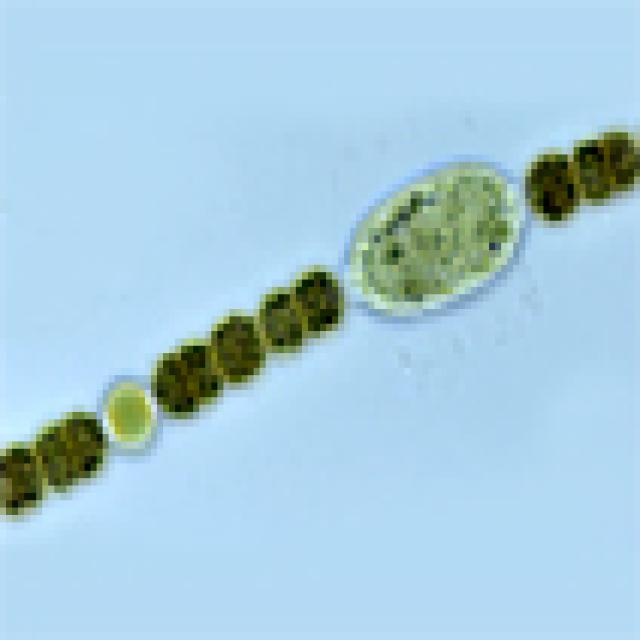Blue Green Algae: (561, 132, 622, 206), (525, 147, 580, 221), (205, 309, 266, 375), (296, 265, 350, 331), (254, 287, 308, 353), (60, 404, 109, 470), (6, 434, 42, 522), (181, 346, 230, 404), (151, 346, 193, 412), (36, 420, 72, 486), (604, 125, 640, 184)
